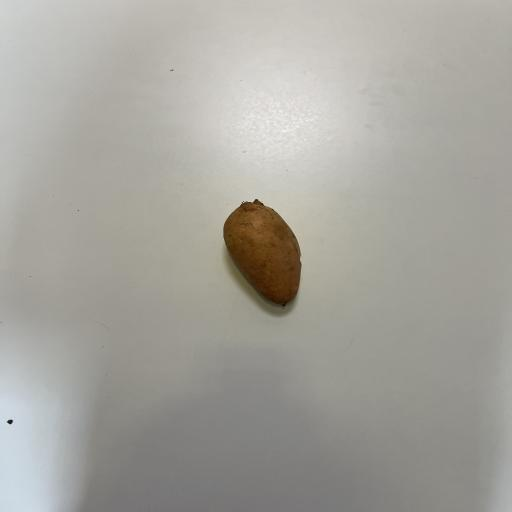sweet_potato: (215, 197, 316, 314)
